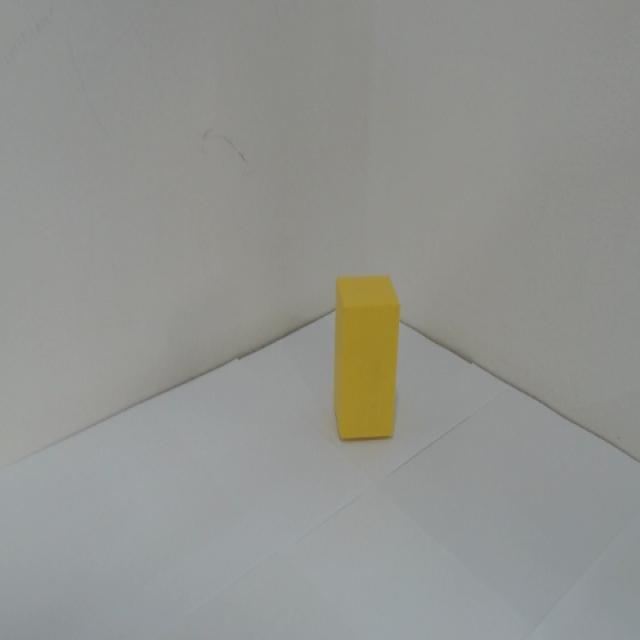cube: (332, 273, 402, 443)
